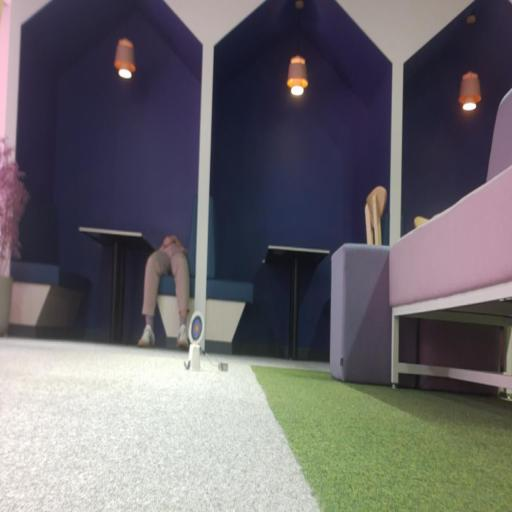target: (188, 311, 204, 344)
